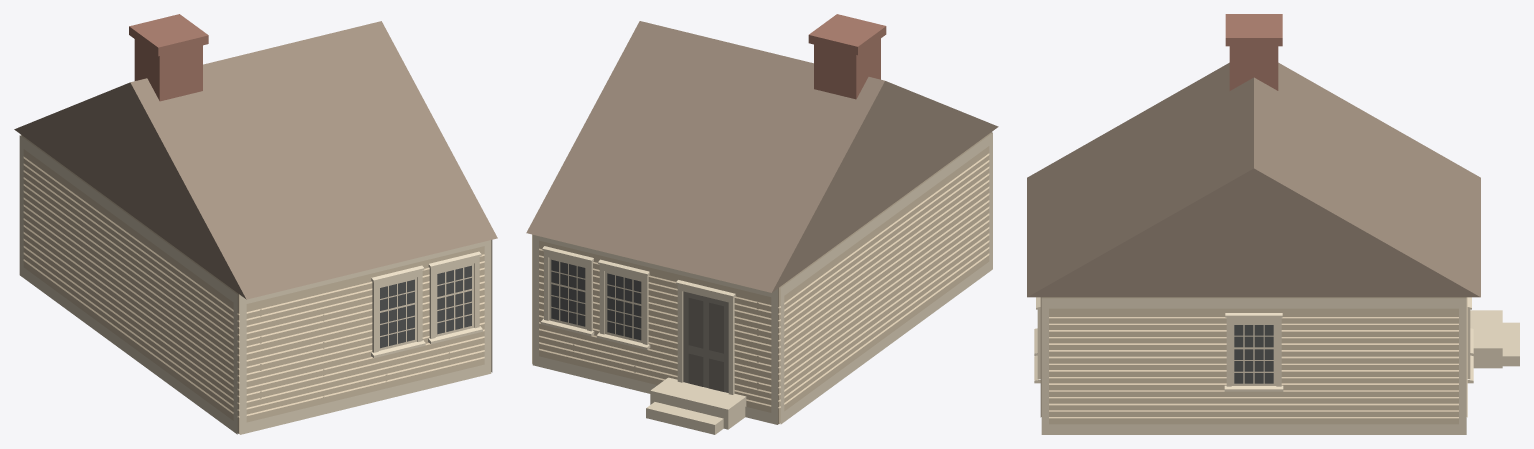
File: recon_1835_west_043__inferred_1835.glb
3 renders of one model, left to right at view 1: azimuth 30°, elevation 25°; view 2: azimuth 150°, elevation 25°; view 3: azimuth 270°, elevation 25°, orthographic. The views are drawn at different scales.
Parts seen in each view (by area): view 1: recon_1835_west_043__inferred_1835; view 2: recon_1835_west_043__inferred_1835; view 3: recon_1835_west_043__inferred_1835.
Boxes of the visible parts, box(x1,y1,x2,y2) form: recon_1835_west_043__inferred_1835: box(14, 14, 497, 434); recon_1835_west_043__inferred_1835: box(526, 14, 998, 434); recon_1835_west_043__inferred_1835: box(1027, 14, 1519, 434).
Bounding box in the file's own units: 5.03 × 5.83 × 8.48.
